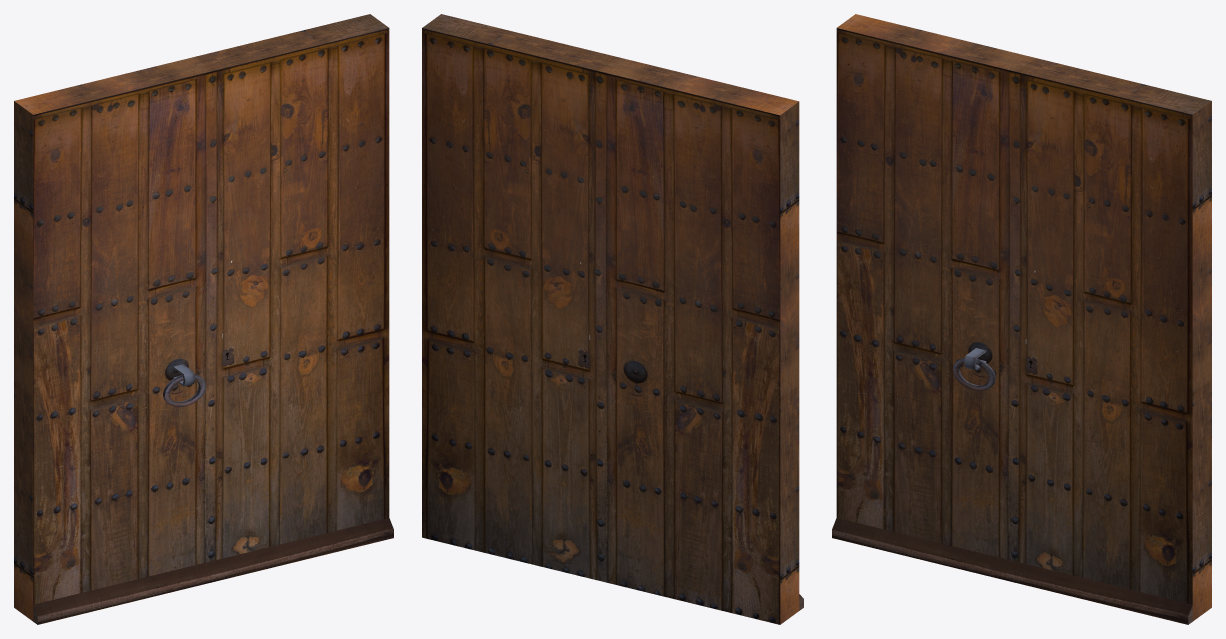
File: Door_S.fbx
The picture shows the model from 3 angles, left to right: view 1: azimuth 30°, elevation 25°; view 2: azimuth 150°, elevation 25°; view 3: azimuth 330°, elevation 25°; orthographic projection.
Visible parts, largest first — view 1: Door_S; view 2: Door_S; view 3: Door_S.
Boxes of the visible parts, <box> form: Door_S: <box>14,14,393,624</box>; Door_S: <box>422,14,803,624</box>; Door_S: <box>832,14,1211,624</box>.
Size of the model in its own units: 3.99 by 5.42 by 0.6116.
Materials: 1 (1 with a texture image).
